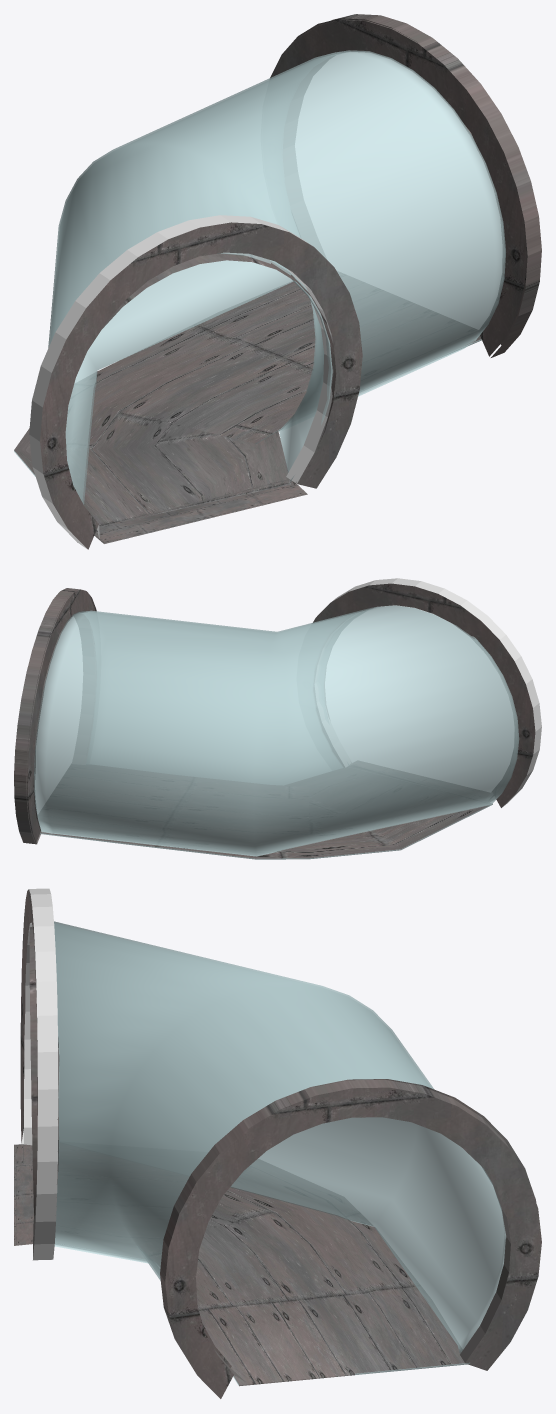
Rendered from CanoCurva.fbx.
The picture shows the model from 3 angles, top to bottom: view 1: azimuth 30°, elevation 25°; view 2: azimuth 150°, elevation 25°; view 3: azimuth 270°, elevation 25°; orthographic projection. The views are drawn at different scales.
Visible parts, largest first — view 1: Cylinder, Cylinder.006, Cylinder.002, Cylinder.001, Cylinder.003; view 2: Cylinder, Cylinder.006, Cylinder.001, Cylinder.005, Cylinder.002, Cylinder.003; view 3: Cylinder, Cylinder.006, Cylinder.001, Cylinder.002, Cylinder.003.
Boxes of the visible parts, x1=… form: Cylinder: x1=14, y1=50, x2=505, y2=504; Cylinder.006: x1=14, y1=271, x2=481, y2=526; Cylinder.002: x1=29, y1=215, x2=362, y2=549; Cylinder.001: x1=270, y1=14, x2=541, y2=357; Cylinder.003: x1=88, y1=253, x2=336, y2=543; Cylinder: x1=34, y1=605, x2=519, y2=859; Cylinder.006: x1=38, y1=764, x2=492, y2=858; Cylinder.001: x1=14, y1=588, x2=96, y2=844; Cylinder.005: x1=313, y1=583, x2=535, y2=807; Cylinder.002: x1=315, y1=578, x2=541, y2=807; Cylinder.003: x1=324, y1=672, x2=516, y2=801; Cylinder: x1=54, y1=921, x2=506, y2=1385; Cylinder.006: x1=55, y1=1144, x2=465, y2=1386; Cylinder.001: x1=160, y1=1079, x2=541, y2=1398; Cylinder.002: x1=20, y1=888, x2=58, y2=1260; Cylinder.003: x1=14, y1=926, x2=37, y2=1245.
Bounding box in the file's own units: 406 × 196 × 318.
3 materials, 1 textured.
